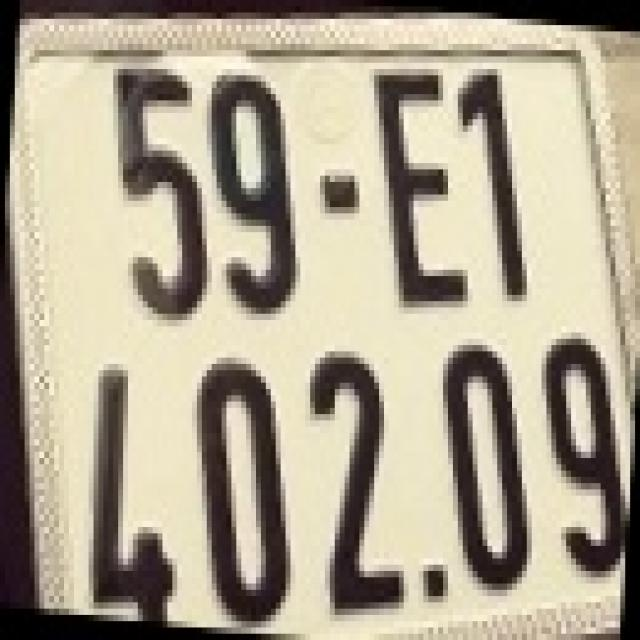0: (192, 352, 295, 628), (438, 339, 532, 590)
1: (462, 69, 536, 301)
2: (305, 345, 414, 615)
4: (79, 364, 182, 621)
5: (108, 63, 212, 320)
9: (207, 69, 305, 314), (542, 333, 625, 577)
E: (374, 63, 468, 307)
